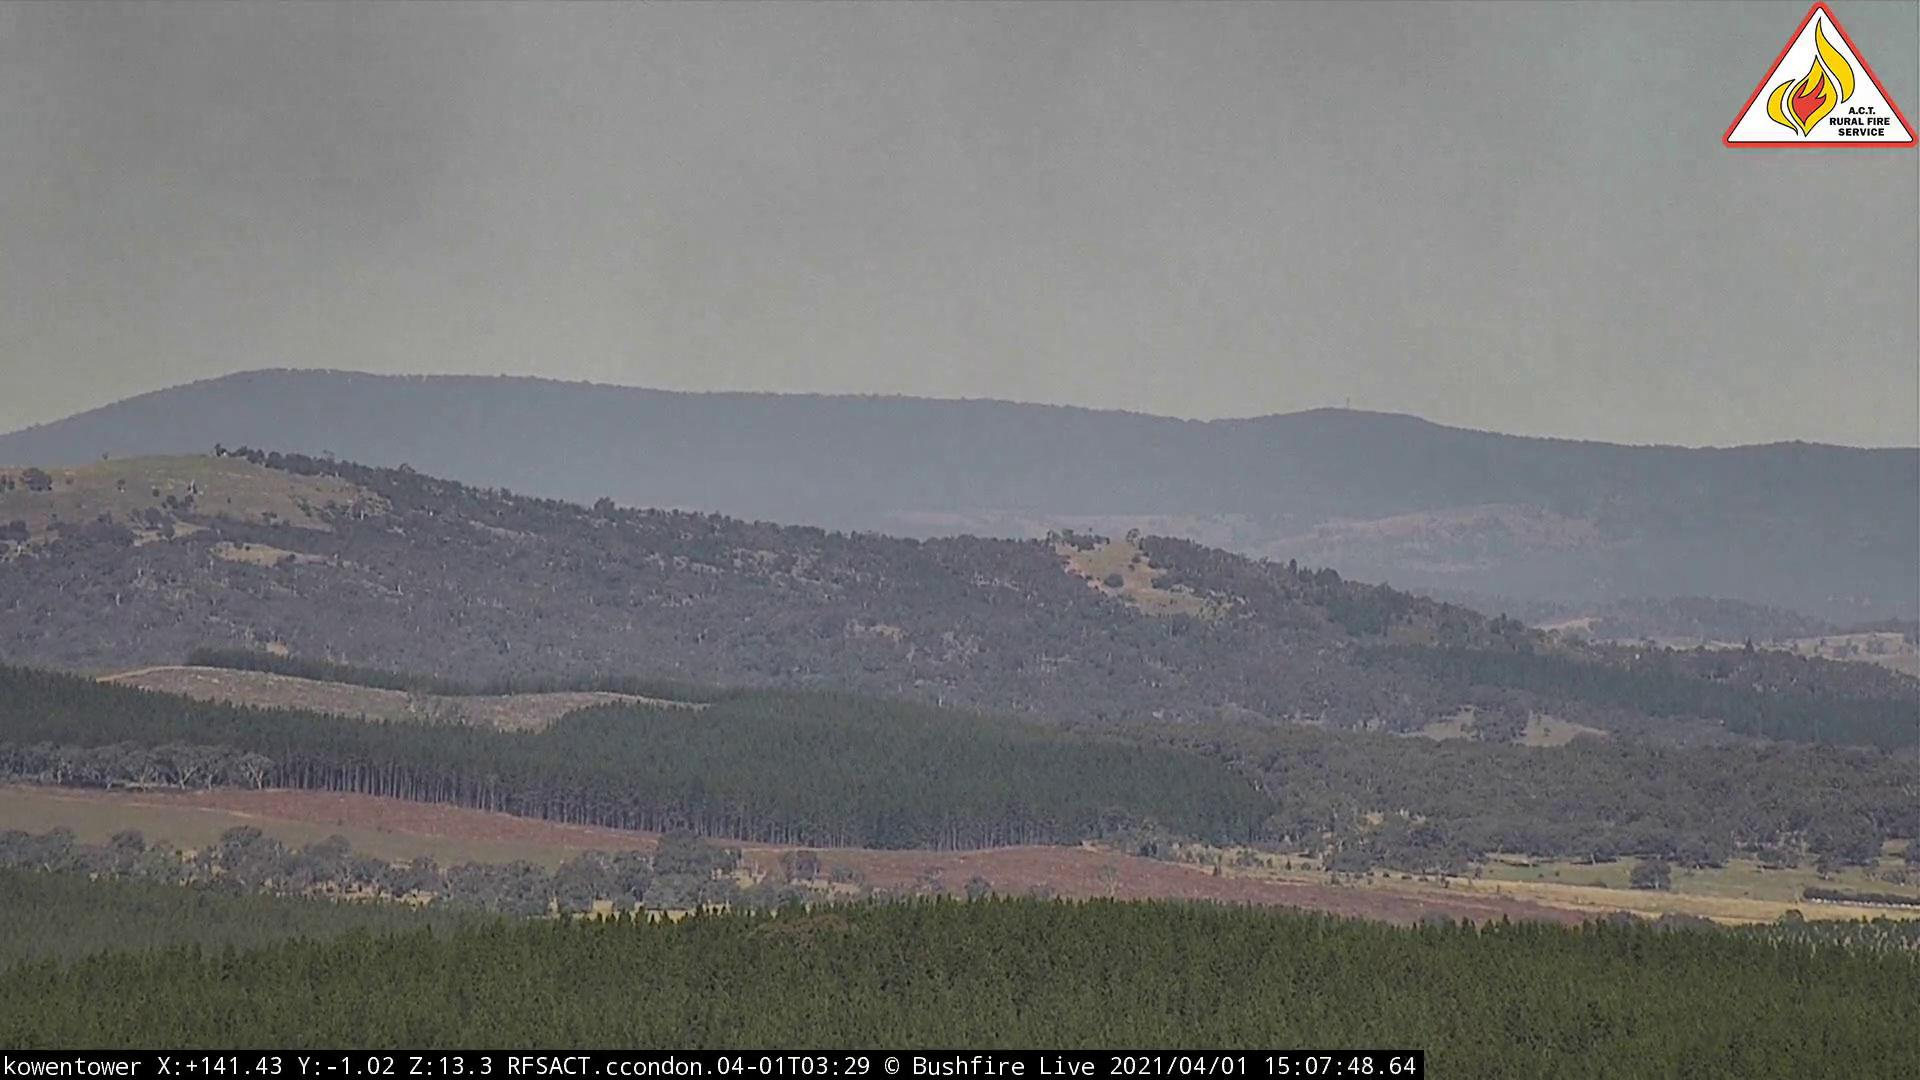Smoke: (3, 3, 1273, 513)
